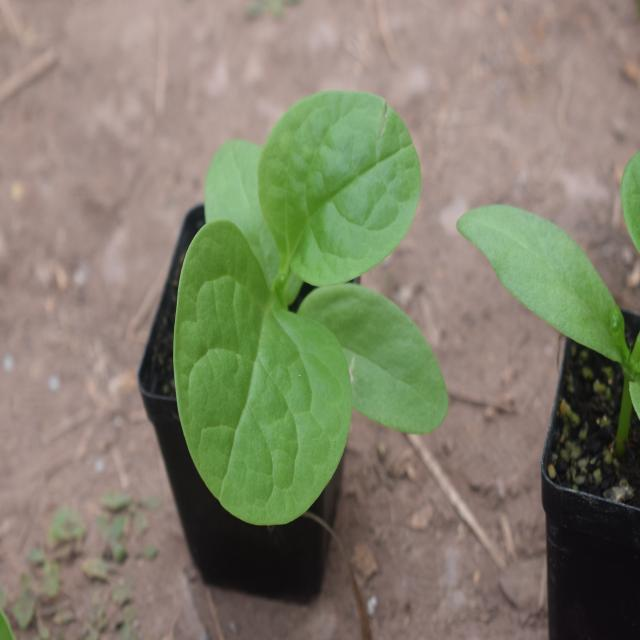Ceylon spinach: (164, 99, 453, 507)
